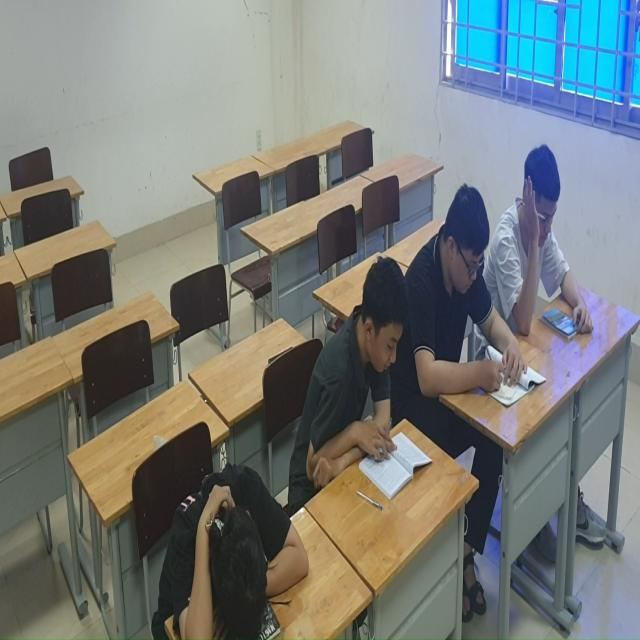raise_hand: (497, 121, 601, 351)
read: (311, 273, 436, 517), (417, 184, 548, 412)
sleep: (153, 446, 310, 640)
